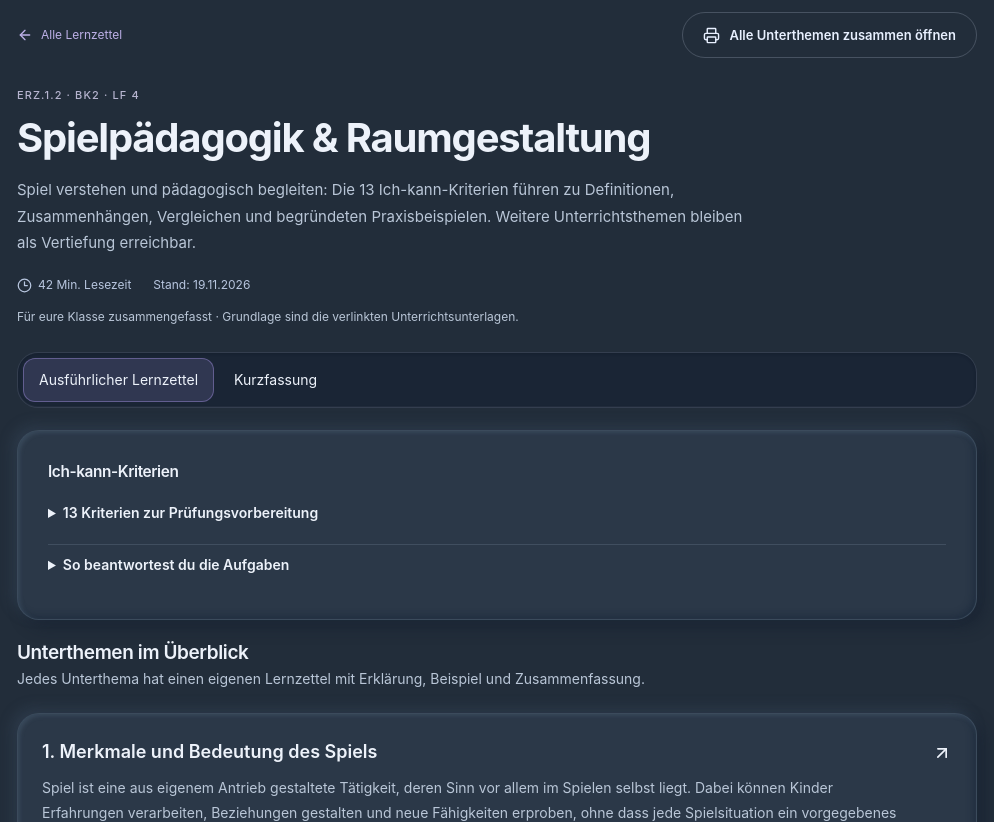
Test: BK2 LF4 nach den Ich-kann-Kriterien › öffnet das Zielkapitel und zeigt dort nur die passenden Kriterien
What coordinates should you click on to do the following:
click the heading "13 Kriterien zur Prüfungsvorbereitung"
I would click on:
 (190, 513)
Its box is [63,504,318,521].
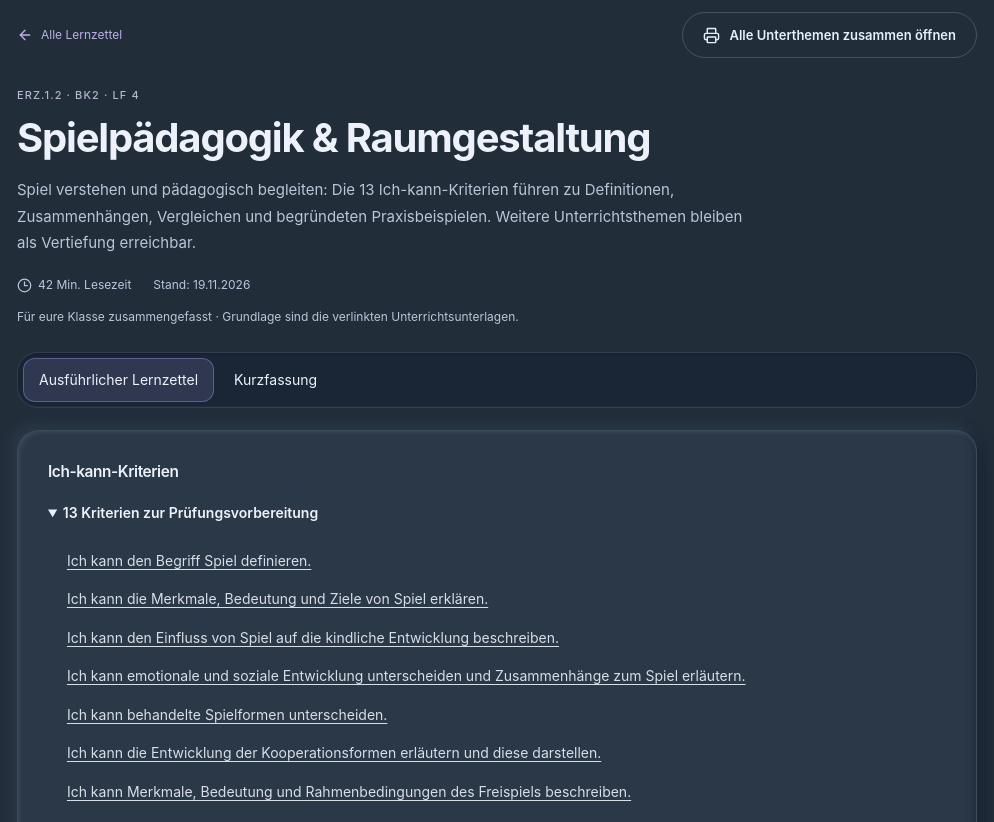
What coordinates should you click on to do the following:
click the link "Ich kann Merkmale, Bedeutung und Rahmenbedingungen des Freispiels beschreiben."
I would click on:
 (349, 791)
Its box is [67,783,631,800].
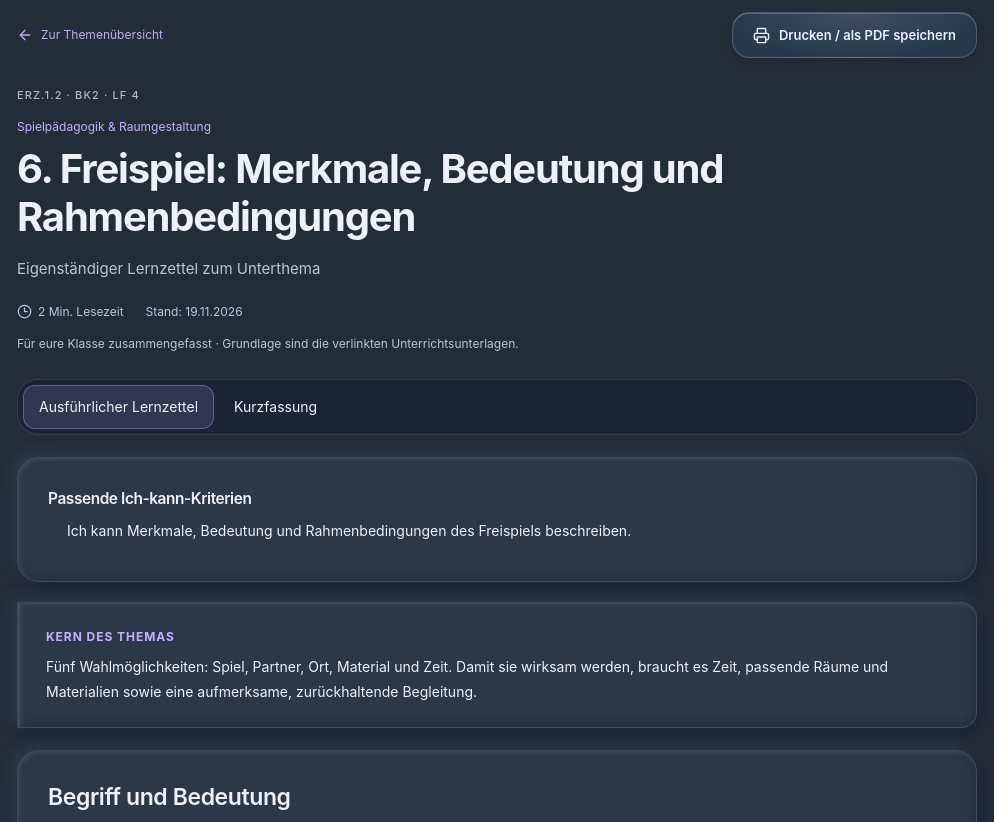
Expected: the list item "Ich kann Merkmale, Bedeutung und Rahmenbedingungen des Freispiels beschreiben." is shown, [67,522,631,539]
Expected: the heading "6. Freispiel: Merkmale, Bedeutung und Rahmenbedingungen" is shown, [17,145,817,241]
